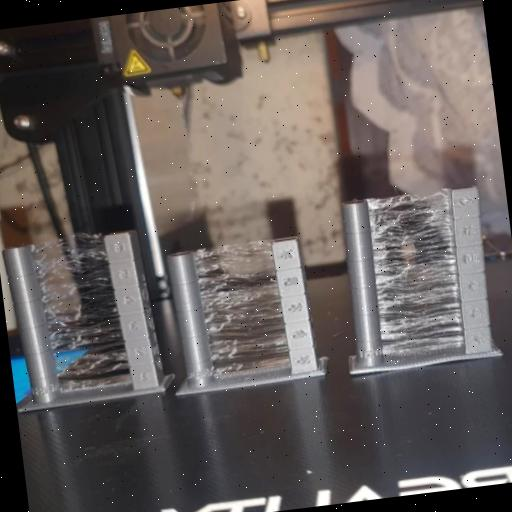stringing: (355, 181, 473, 357), (22, 228, 134, 399), (180, 233, 300, 379)
